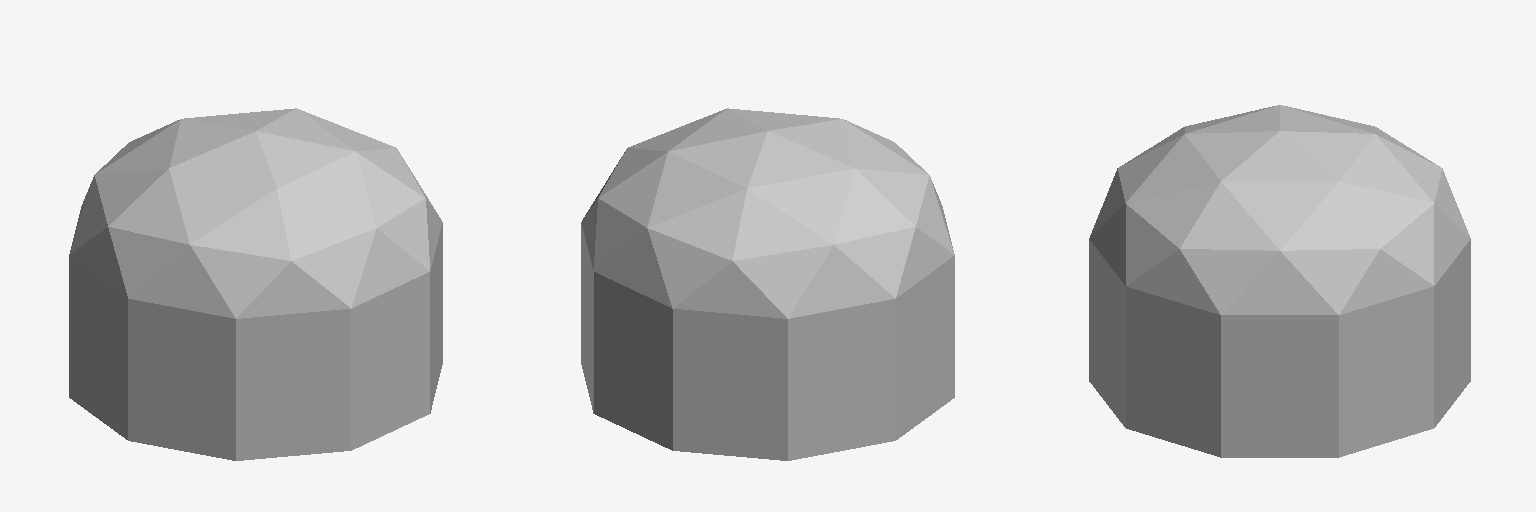
File: Wall.obj
3 renders of one model, left to right at view 1: azimuth 30°, elevation 25°; view 2: azimuth 150°, elevation 25°; view 3: azimuth 270°, elevation 25°, orthographic.
Visible parts, largest first — view 1: Icosphere; view 2: Icosphere; view 3: Icosphere.
Part boxes in pixels (x1,y1,x2,y2): Icosphere: (69, 108, 442, 460); Icosphere: (581, 108, 954, 460); Icosphere: (1089, 105, 1470, 457).
Size of the model in its own units: 3.3 by 2.51 by 3.47.